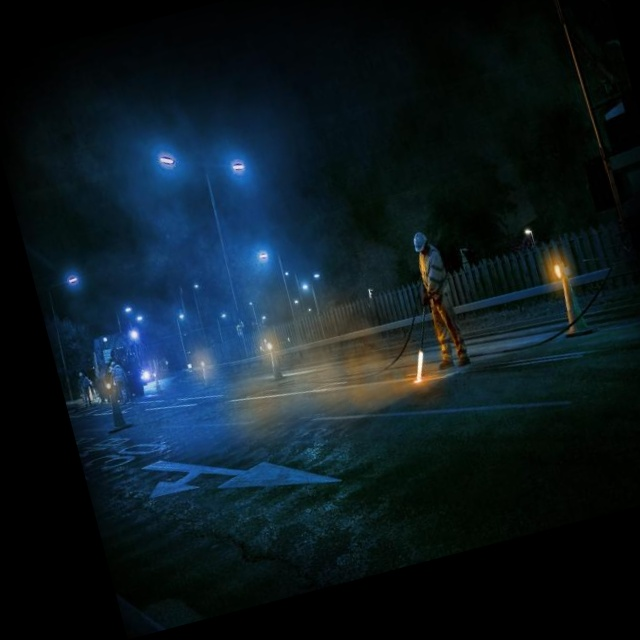Con_Casco: (411, 230, 430, 253)
Con_Chaleco: (415, 248, 451, 302)
